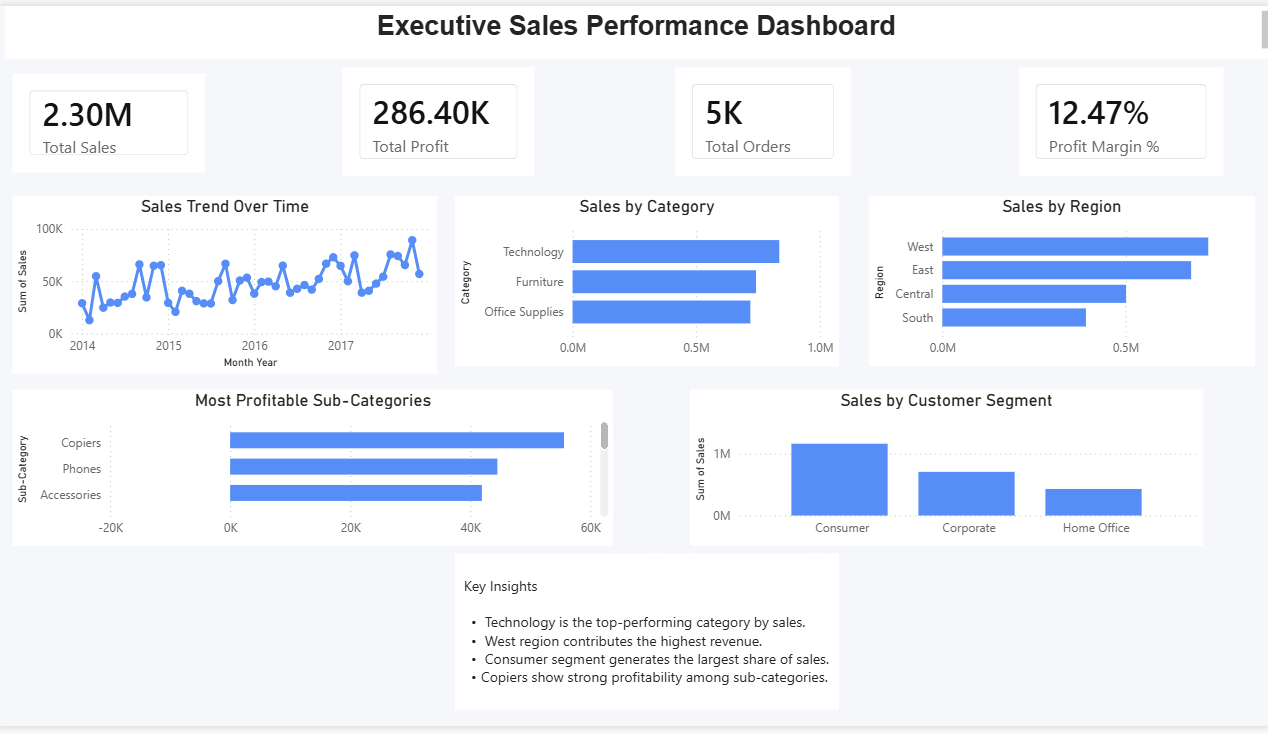

What the dashboard file says about the page in this screenshot:
{"tool":"powerbi","page":{"name":"Executive Sales Performance","canvas":[1280,720],"ordinal":0},"visuals":[{"type":"textbox","box":[10,0,1270,52.5],"z":0},{"type":"cardVisual","fields":{"Data":["Sample - Superstore.Total Sales"]},"box":[18,67,193,99],"z":1000},{"type":"cardVisual","fields":{"Data":["Sample - Superstore.Total Profit"]},"box":[347,61,192,109],"z":2000},{"type":"cardVisual","fields":{"Data":["Sample - Superstore.Total Orders"]},"box":[680,61,176,109],"z":3000},{"type":"cardVisual","fields":{"Data":["Sample - Superstore.Profit Margin %"]},"box":[1024,61,205,109],"z":4000},{"type":"clusteredBarChart","title":"Sales by Category","fields":{"Category":["Sample - Superstore.Category"],"Y":["Sum(Sample - Superstore.Sales)"]},"box":[460,190,384,170],"z":5000},{"type":"clusteredBarChart","title":"Sales by Region","fields":{"Category":["Sample - Superstore.Region"],"Y":["Sum(Sample - Superstore.Sales)"]},"box":[874,190,386,170],"z":6000},{"type":"clusteredBarChart","title":"Most Profitable Sub-Categories","fields":{"Category":["Sample - Superstore.Sub-Category"],"Y":["Sum(Sample - Superstore.Profit)"]},"box":[18,384,601,156],"z":7000},{"type":"clusteredColumnChart","title":"Sales by Customer Segment","fields":{"Category":["Sample - Superstore.Segment"],"Y":["Sum(Sample - Superstore.Sales)"]},"box":[695,384,513,156],"z":8000},{"type":"textbox","box":[460,547,384,156],"z":9000},{"type":"lineChart","title":"Sales Trend Over Time","fields":{"Y":["Sum(Sample - Superstore.Sales)"],"Category":["Sample - Superstore.Month Year"]},"box":[17.5,190,425,177.5],"z":10000}]}

Visuals, with their boxes in screenshot pixels (x1, y1, x2, y2), scaled from the page's 1280x720 canvas onto the 1268x734 screenshot:
textbox: detection(10, 0, 1267, 54)
cardVisual - Sample - Superstore.Total Sales: detection(18, 68, 209, 169)
cardVisual - Sample - Superstore.Total Profit: detection(344, 62, 534, 173)
cardVisual - Sample - Superstore.Total Orders: detection(674, 62, 848, 173)
cardVisual - Sample - Superstore.Profit Margin %: detection(1014, 62, 1217, 173)
"Sales by Category" clusteredBarChart: detection(456, 194, 836, 367)
"Sales by Region" clusteredBarChart: detection(866, 194, 1248, 367)
"Most Profitable Sub-Categories" clusteredBarChart: detection(18, 391, 613, 550)
"Sales by Customer Segment" clusteredColumnChart: detection(688, 391, 1197, 550)
textbox: detection(456, 558, 836, 717)
"Sales Trend Over Time" lineChart: detection(17, 194, 438, 375)
